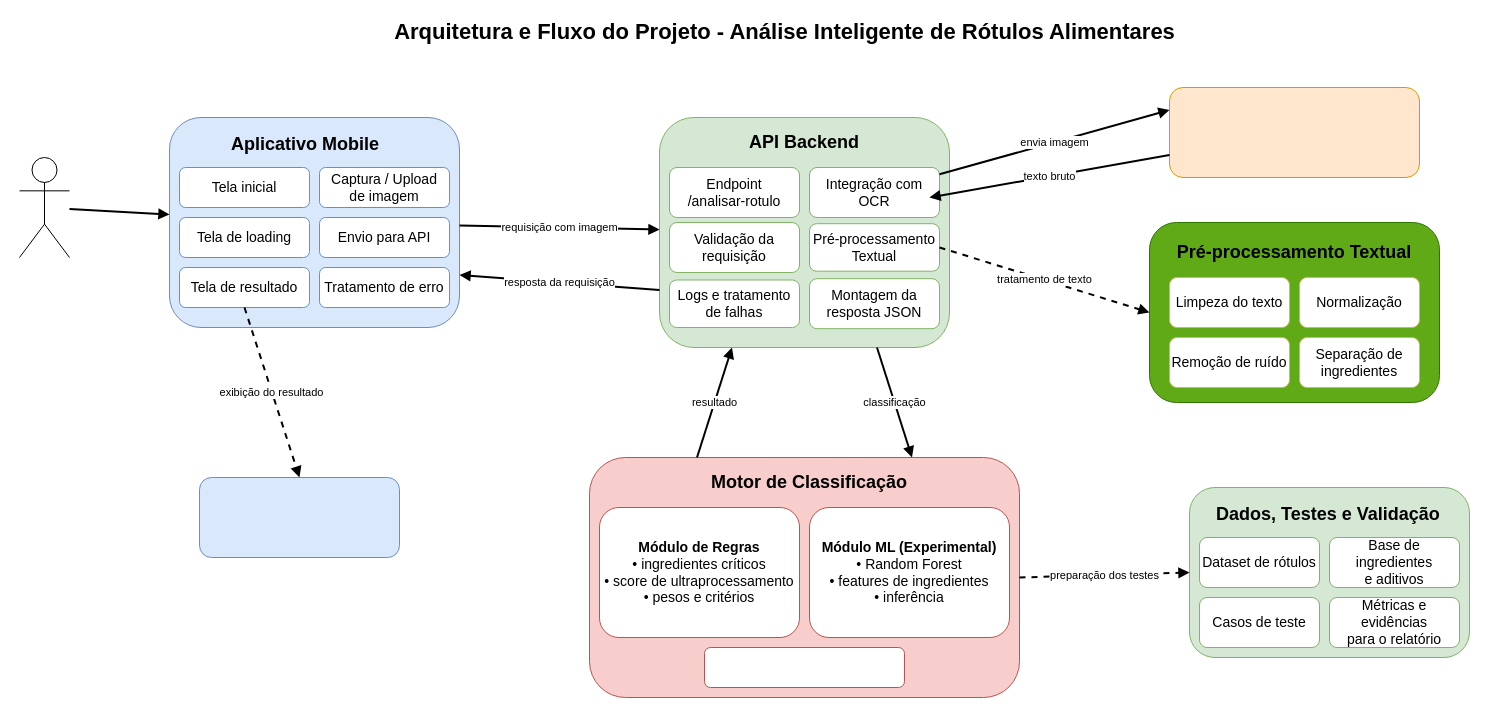
This 1487x715 diagram has some shape labels left out. The shapes that lost their labels are listed below. From the top down, each one's box as (x1, y1, x2, y2) in pixels, then its label:
(1168, 86, 1420, 178): OCR - Google Vision API Imagem → Texto bruto
(18, 156, 70, 258): Usuário
(198, 476, 400, 558): Resultado ao Usuário Classificação + Explicação amigável
(704, 646, 904, 688): Consolidação da decisão final
